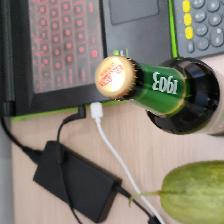gua: (158, 165, 223, 220)
